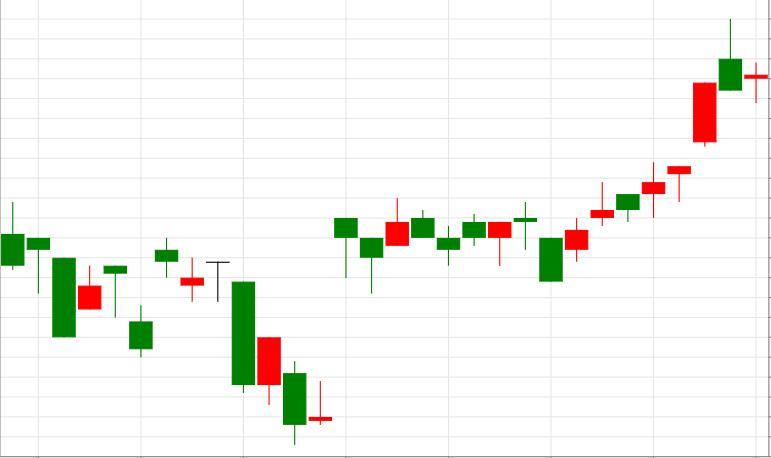shooting_star_fall: (564, 20, 742, 261)
